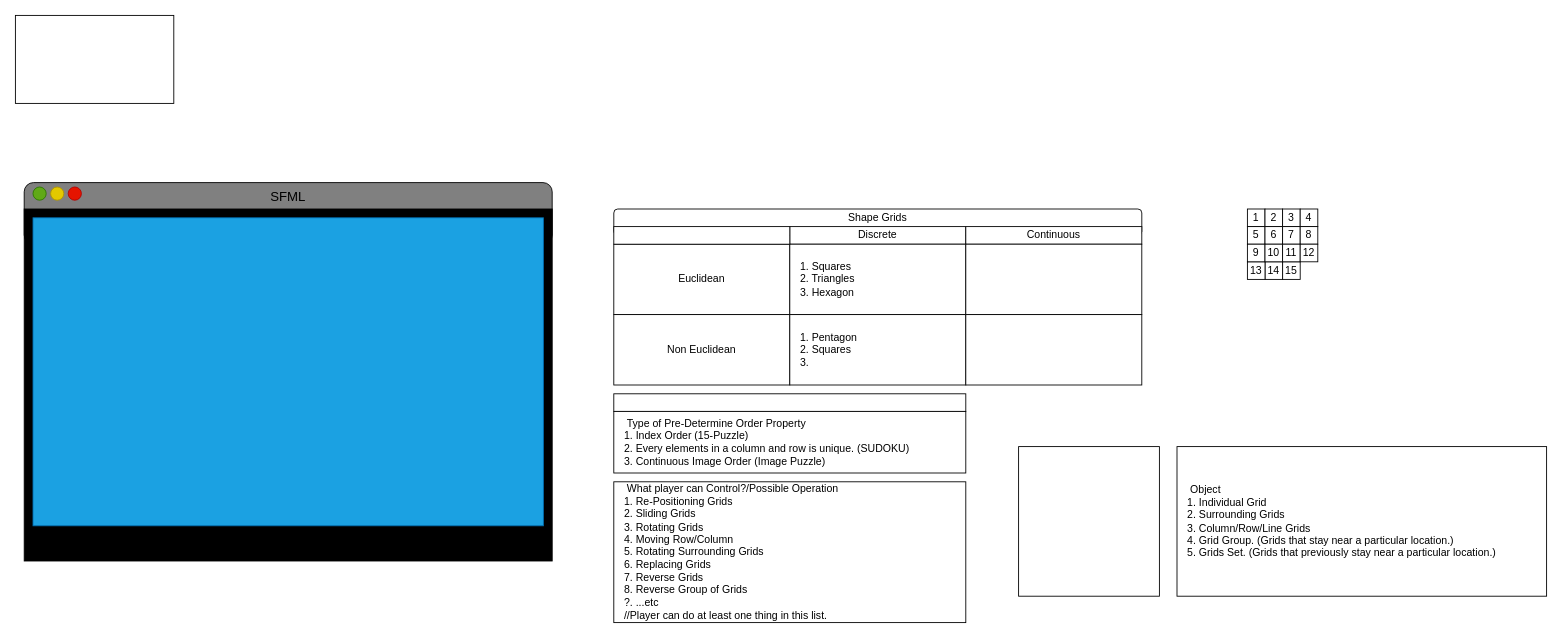
Some shapes in this 1562 by 638 pixel diagram are drawn without their labels. The centre of each missing label's shape, as x and y in pixels:
Goal: Arranging Grid in pre-determine order.: point 789,402
Keyword 1. 15Puzzle 2. Group Theory 3. Topology: point 94,59
Verb/Operation 1. Re-Position 2. Sliding 3. Rotating 4. Moving 5. Reversing: point 1088,521
